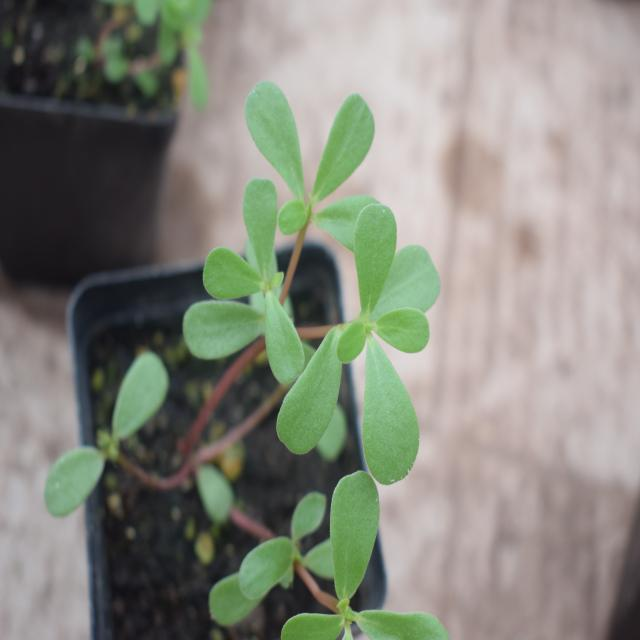purslane: (203, 72, 450, 596)
